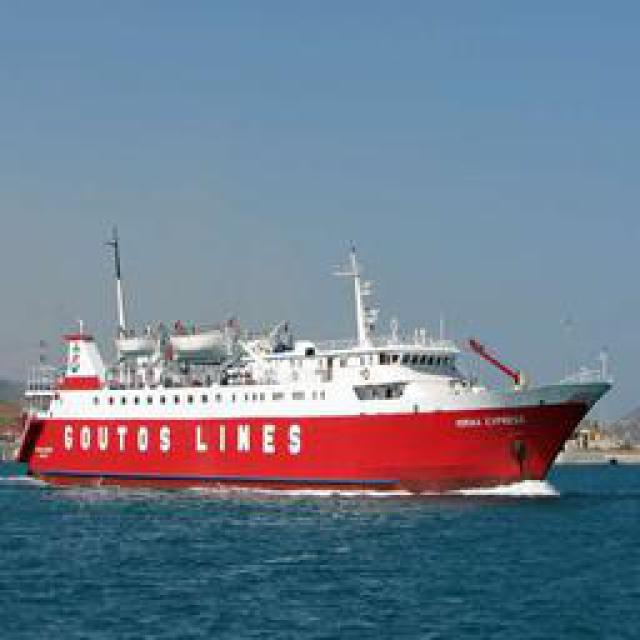Ship: (15, 220, 608, 493)
